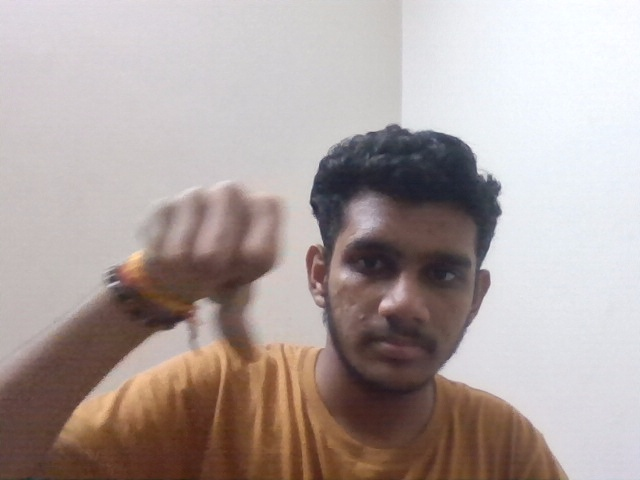yes: (133, 184, 291, 368)
